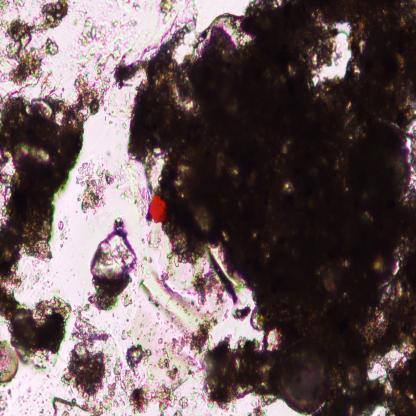Background material: (112, 0, 416, 416), (0, 74, 104, 358), (50, 316, 126, 415), (138, 260, 223, 343), (0, 0, 69, 89), (126, 343, 201, 410), (88, 215, 138, 311), (70, 12, 109, 84), (76, 160, 113, 214), (0, 339, 19, 383), (49, 218, 69, 243), (0, 388, 14, 413)
Diatom: (279, 339, 330, 412)
Fragment: (148, 192, 167, 224)
